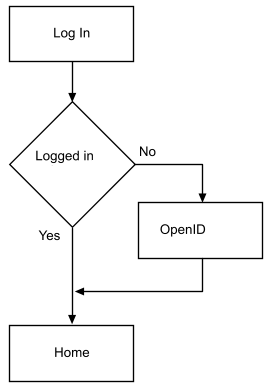arrow: (75, 258, 206, 295), (135, 161, 207, 203), (67, 224, 77, 322), (68, 59, 77, 104)
decision: (10, 101, 137, 228)
process: (135, 200, 267, 262), (6, 3, 137, 65), (7, 322, 137, 384)
text: (33, 149, 98, 164), (158, 221, 209, 239), (51, 26, 92, 40), (52, 345, 92, 358), (37, 227, 62, 242), (138, 144, 157, 158)
